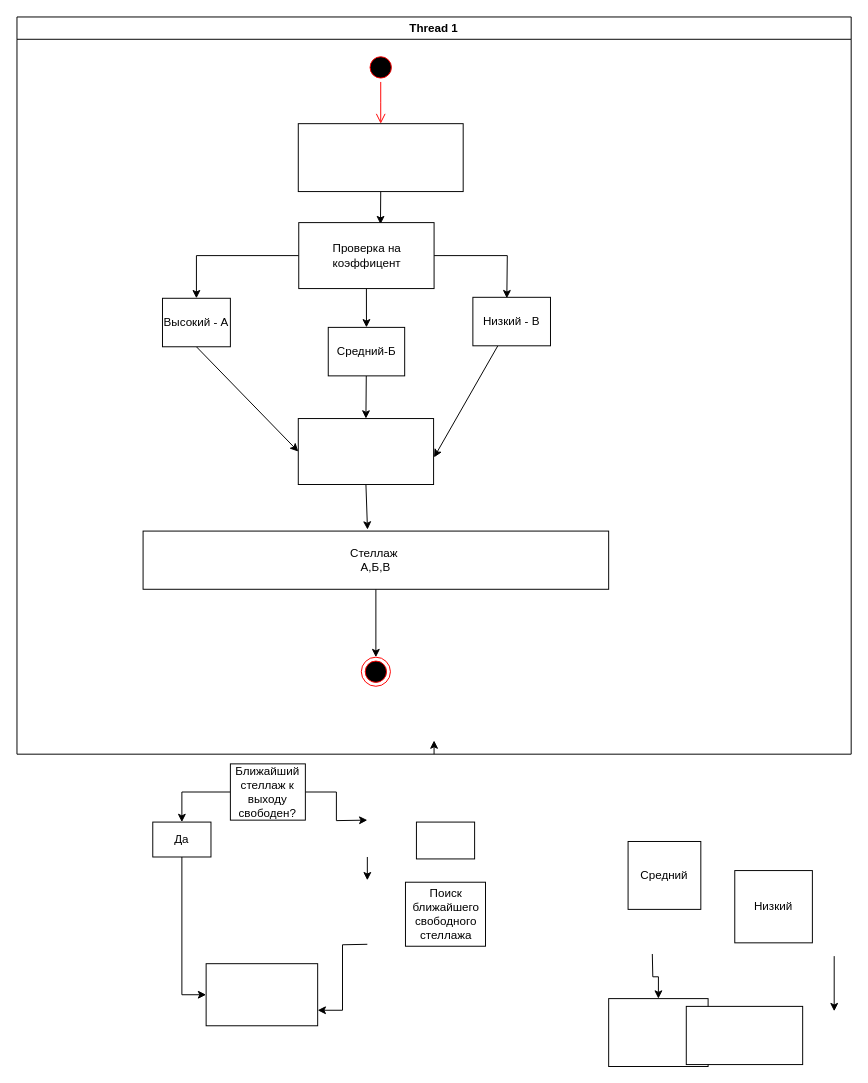
This 868x1083 diagram has some shape labels left out. Here are the shapes that lost their labels. From the top down, the centre of each, then its label:
At point (380, 157): "Поступление товара на склад".
At point (365, 451): "Сортировка по коэффиценту".
At point (445, 840): "Нет".
At point (261, 994): "Размещение товара в ближайшем стеллаже".
At point (658, 1032): "Размещение на стеллаже в середине склада".
At point (744, 1035): "Размещение в конце склада".
